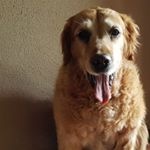puppy: (44, 3, 150, 145)
